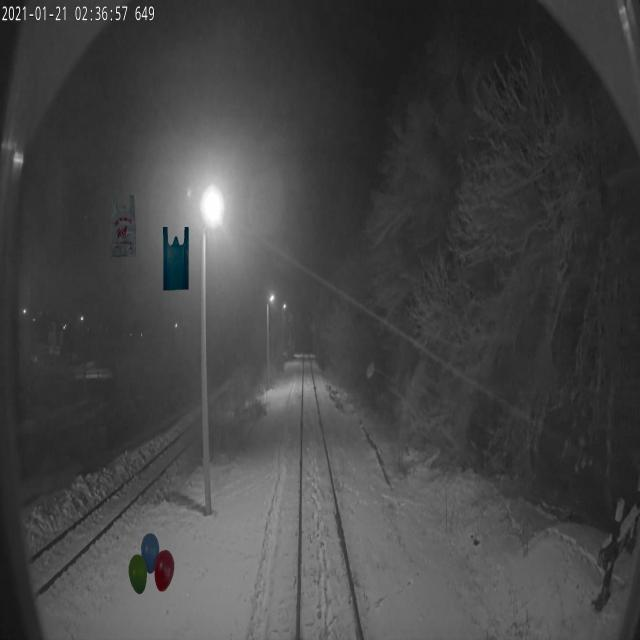balloon: (128, 532, 174, 596), (111, 194, 136, 258)
plastic bag: (163, 227, 189, 290)
